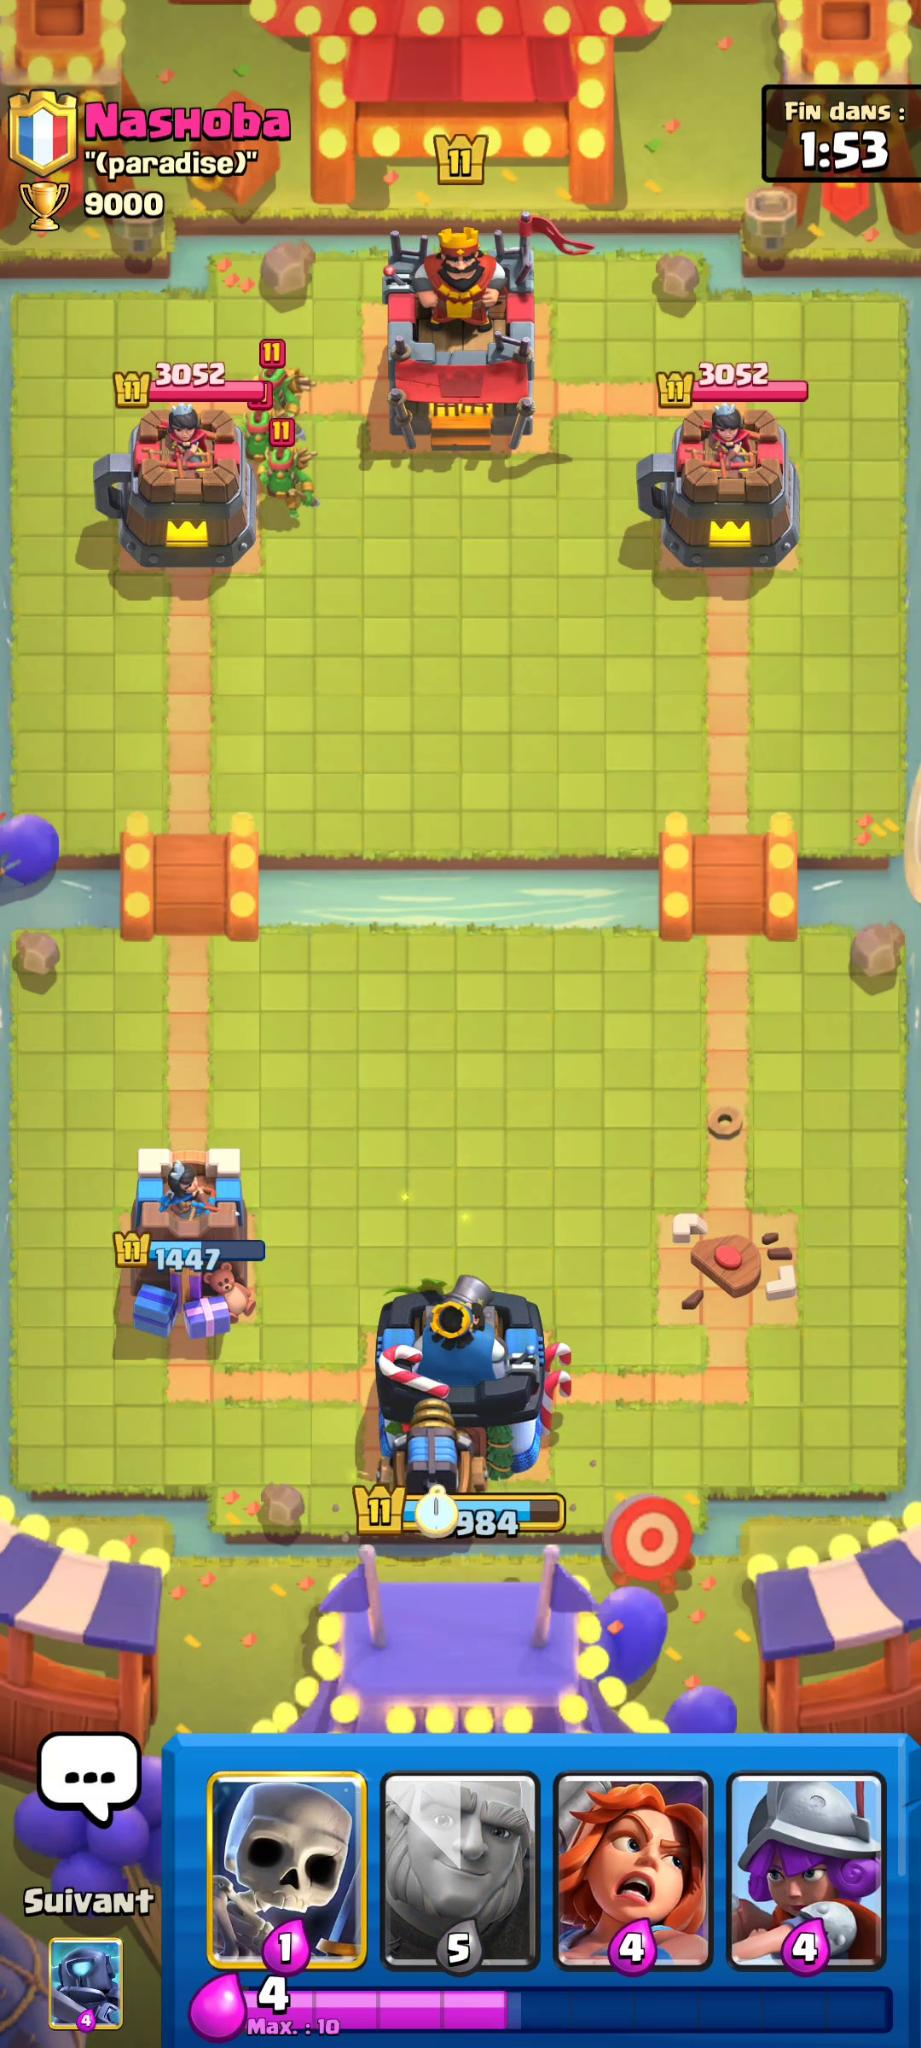gobelin_lances: (260, 438, 307, 511), (259, 346, 306, 414), (239, 405, 281, 461)
zappy: (376, 1387, 482, 1544)
